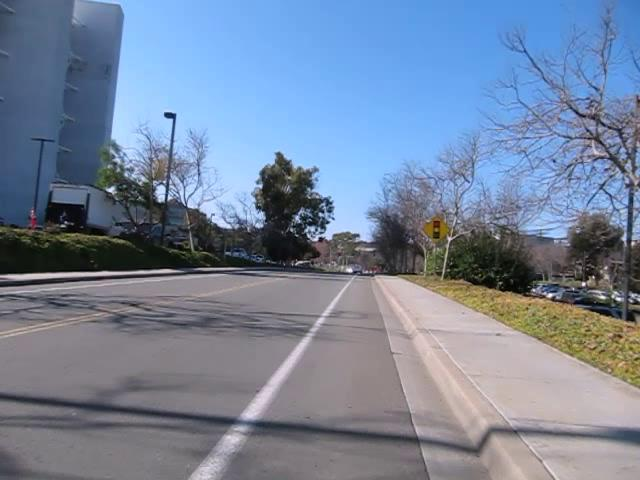signalAhead: (421, 213, 451, 245)
